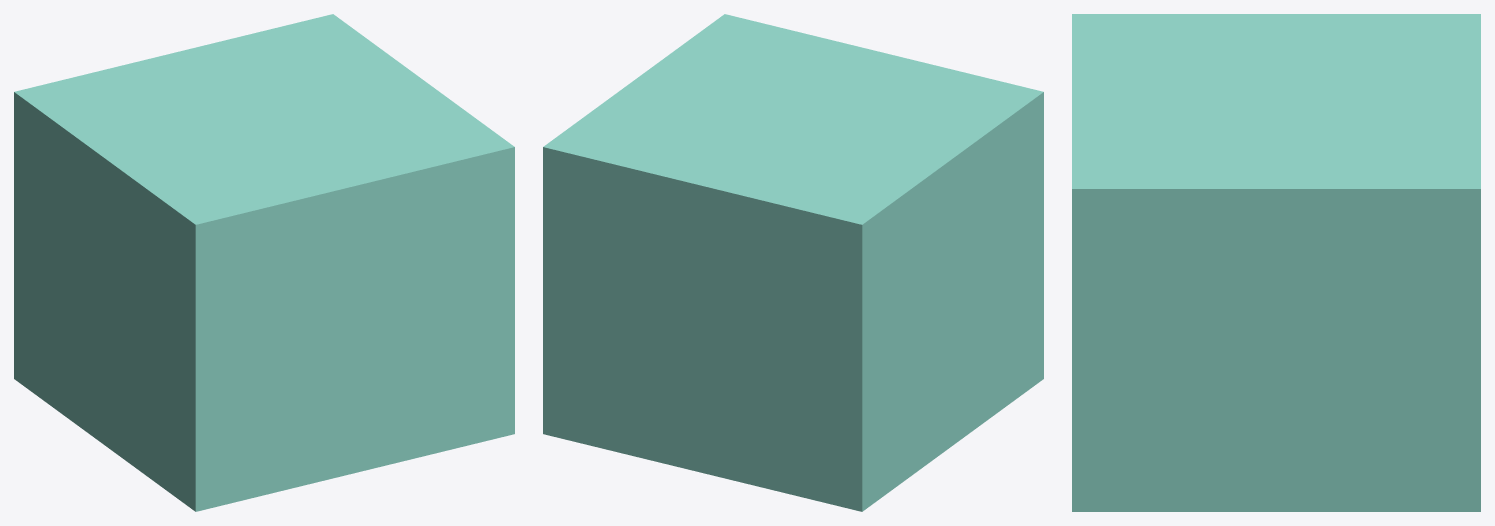
Rendered from ceramic_planter.DAE.
3 renders of one model, left to right at view 1: azimuth 30°, elevation 25°; view 2: azimuth 150°, elevation 25°; view 3: azimuth 270°, elevation 25°, orthographic. The views are drawn at different scales.
Parts seen in each view (by area): view 1: bounds; view 2: bounds; view 3: bounds.
Part boxes in pixels (<box>): bounds: <box>14,14,514,511</box>; bounds: <box>543,14,1043,511</box>; bounds: <box>1072,14,1480,511</box>.
Size of the model in its own units: 147 by 145 by 128.
